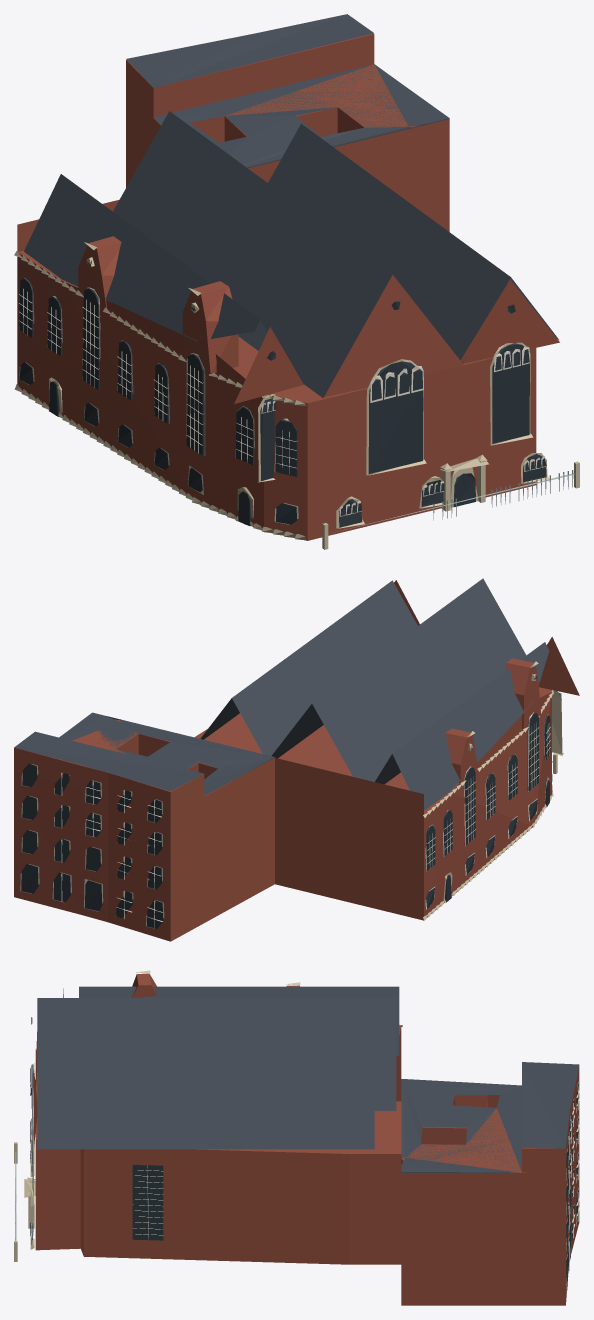
Rendered from oude-lutherse-kerk.lod1.glb.
3 views of the same model, one above another, from view 1: azimuth 30°, elevation 25°; view 2: azimuth 150°, elevation 25°; view 3: azimuth 270°, elevation 25° (orthographic). The views are drawn at different scales.
Parts seen in each view (by area): view 1: oude-lutherse-kerk; view 2: oude-lutherse-kerk; view 3: oude-lutherse-kerk.
Part boxes in pixels (x1,y1,x2,y2): oude-lutherse-kerk: (14,14,579,549); oude-lutherse-kerk: (14,578,579,941); oude-lutherse-kerk: (14,970,579,1305).
Size of the model in its own units: 40.81 by 21.93 by 57.22.
